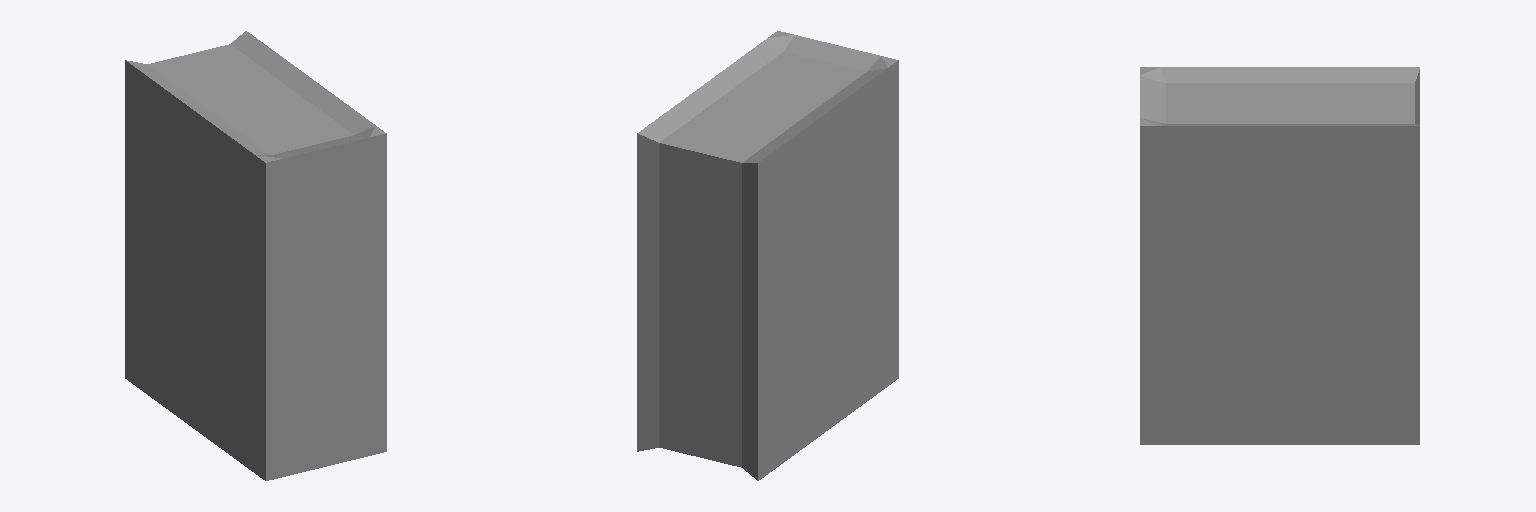
The model's file is Book.obj.
The picture shows the model from 3 angles: view 1: azimuth 30°, elevation 25°; view 2: azimuth 150°, elevation 25°; view 3: azimuth 270°, elevation 25°; orthographic projection.
Parts seen in each view (by area): view 1: Cube; view 2: Cube; view 3: Cube.
Boxes of the visible parts, x1=… form: Cube: x1=125, y1=31, x2=386, y2=480; Cube: x1=637, y1=31, x2=898, y2=480; Cube: x1=1140, y1=67, x2=1419, y2=444.
Bounding box in the file's own units: 0.9945 × 2.5 × 2.